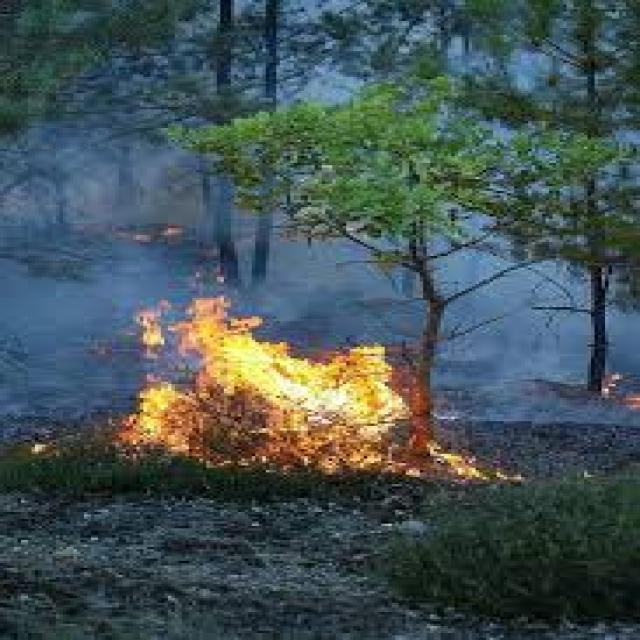Fire: (125, 351, 428, 484), (434, 274, 636, 424), (137, 292, 287, 351), (435, 446, 534, 484)
Smoke: (2, 98, 122, 430), (128, 160, 424, 292)
